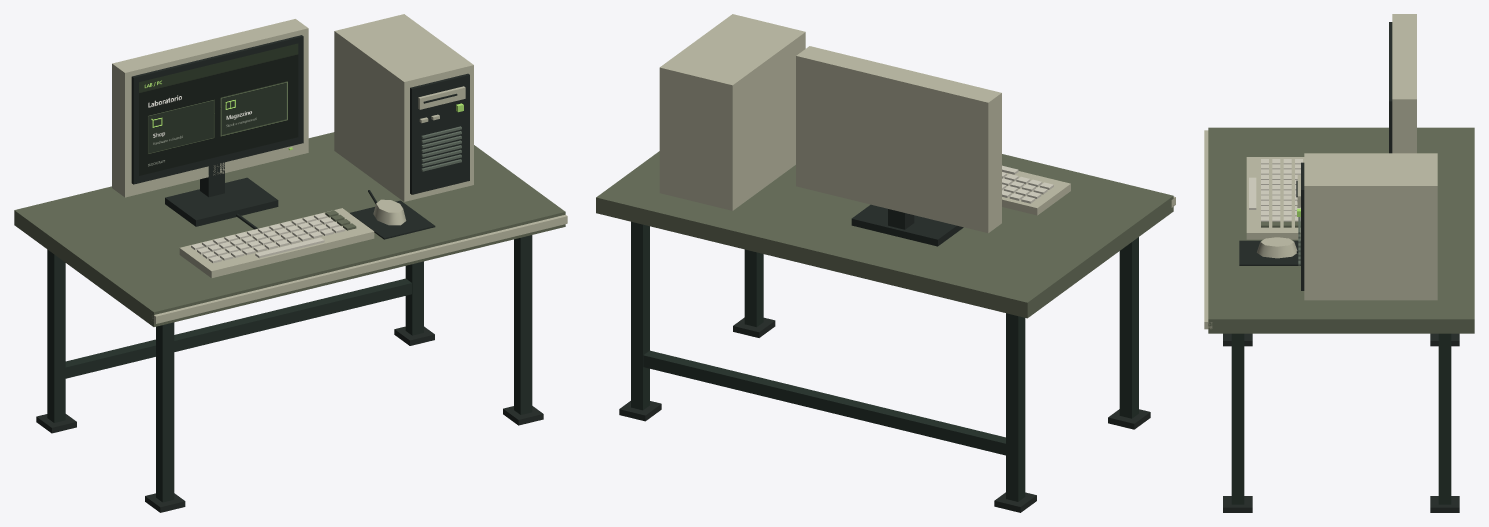
Rendered from computer.glb.
The picture shows the model from 3 angles, left to right: view 1: azimuth 30°, elevation 25°; view 2: azimuth 150°, elevation 25°; view 3: azimuth 270°, elevation 25°; orthographic projection. The views are drawn at different scales.
Parts seen in each view (by area): view 1: desk-top, tower, computer-screen, desk-leg (×4), monitor-case, desk-brace, tower-front, desk-front-edge, screen-bezel, keyboard, monitor-foot, mouse-mat (+2 smaller); view 2: desk-top, monitor-case, tower, desk-leg (×4), desk-brace, monitor-foot, keyboard; view 3: desk-top, tower, desk-leg (×2), monitor-case, keyboard, desk-front-edge, mouse-mat, desk-foot (×2), mouse, screen-bezel, tower-front.
Part boxes in pixels (x1,y1,x2,y2): desk-top: (14,132,565,326); tower: (334,14,473,201); computer-screen: (139,43,298,175); desk-leg (×4): (47,235,532,502); monitor-case: (112,19,308,197); desk-brace: (65,278,411,378); tower-front: (410,73,469,194); desk-front-edge: (151,214,567,323); screen-bezel: (131,35,303,184); keyboard: (179,208,374,278); monitor-foot: (165,177,278,226); mouse-mat: (350,200,435,239); desk-top: (596,151,1173,318); monitor-case: (796,46,1001,233); tower: (659,14,805,210); desk-leg (×4): (631,221,1138,501); desk-brace: (643,350,1005,455); monitor-foot: (851,204,963,246); keyboard: (1002,171,1070,215); desk-top: (1208,127,1474,333); tower: (1304,153,1437,300); desk-leg (×2): (1231,333,1451,504); monitor-case: (1392,14,1416,153); keyboard: (1246,157,1304,239); desk-front-edge: (1204,130,1212,329); mouse-mat: (1239,240,1300,265); desk-foot (×2): (1223,496,1459,512); mouse: (1257,237,1297,258); screen-bezel: (1389,22,1392,153); tower-front: (1301,162,1304,290).
Bounding box in the file's own units: 4.6 × 3.87 × 2.74.
Materials: 90 (1 with a texture image).
